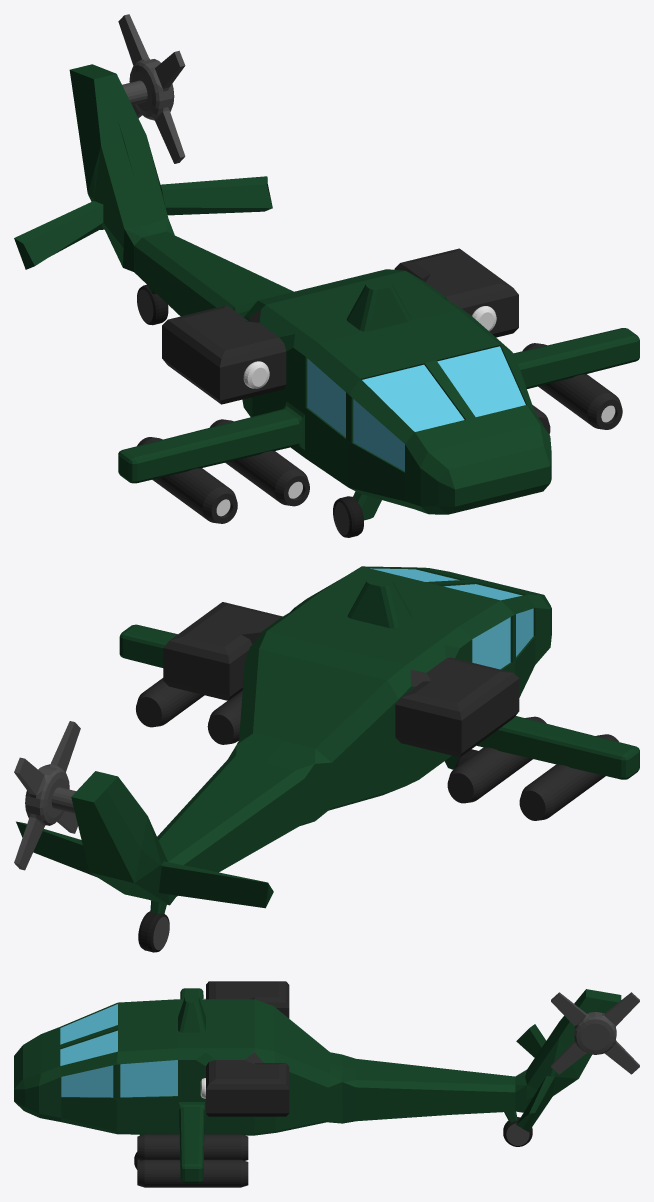
Rendered from helicoptero.fbx.
3 views of the same model, one above another, from view 1: azimuth 30°, elevation 25°; view 2: azimuth 150°, elevation 25°; view 3: azimuth 270°, elevation 25° (orthographic). The views are drawn at different scales.
Visible parts, largest first — view 1: Helicoptero, HeliceChica; view 2: Helicoptero, HeliceChica; view 3: Helicoptero, HeliceChica.
Boxes of the visible parts, box(x1,y1,x2,y2) form: Helicoptero: box(14, 64, 639, 537); HeliceChica: box(118, 14, 185, 163); Helicoptero: box(16, 566, 639, 952); HeliceChica: box(14, 721, 80, 870); Helicoptero: box(14, 981, 621, 1187); HeliceChica: box(551, 992, 639, 1074).
Size of the model in its own units: 6.15 by 2.85 by 9.07.
